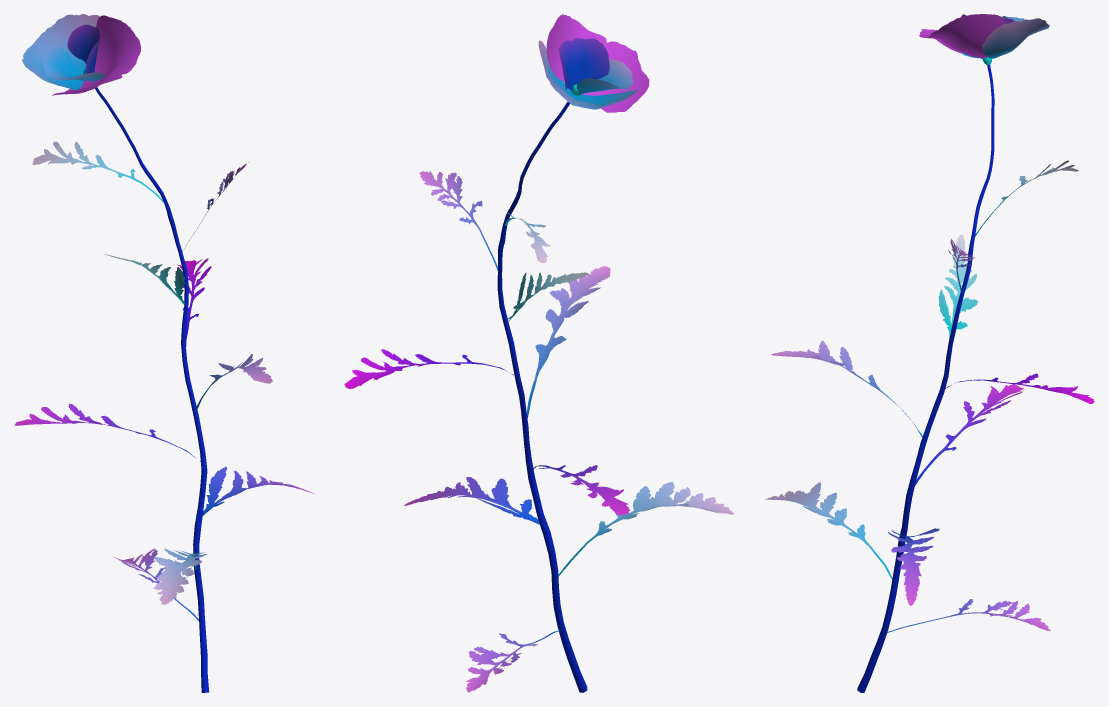
The model's file is Field_Poppy_vmcobd0ja_Raw_vmcobd0ja_VarA_LOD0.fbx.
3 renders of one model, left to right at view 1: azimuth 30°, elevation 25°; view 2: azimuth 150°, elevation 25°; view 3: azimuth 270°, elevation 25°, orthographic. The views are drawn at different scales.
Visible parts, largest first — view 1: _iyy1_VarA_High; view 2: _iyy1_VarA_High; view 3: _iyy1_VarA_High.
Boxes of the visible parts, x1,y1,x2,y2 form: _iyy1_VarA_High: [14, 14, 314, 692]; _iyy1_VarA_High: [344, 14, 733, 692]; _iyy1_VarA_High: [764, 14, 1094, 692].
Size of the model in its own units: 26.31 by 64.51 by 29.3.
